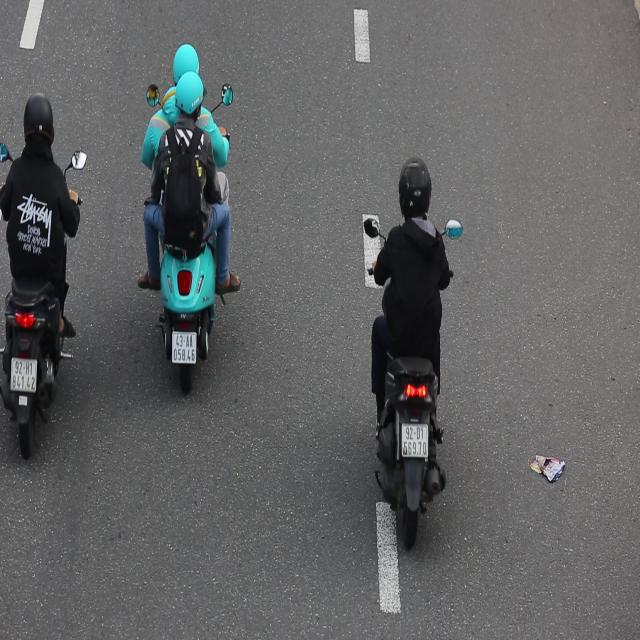motorbike: (355, 138, 471, 562), (142, 46, 246, 389), (1, 84, 86, 463)
